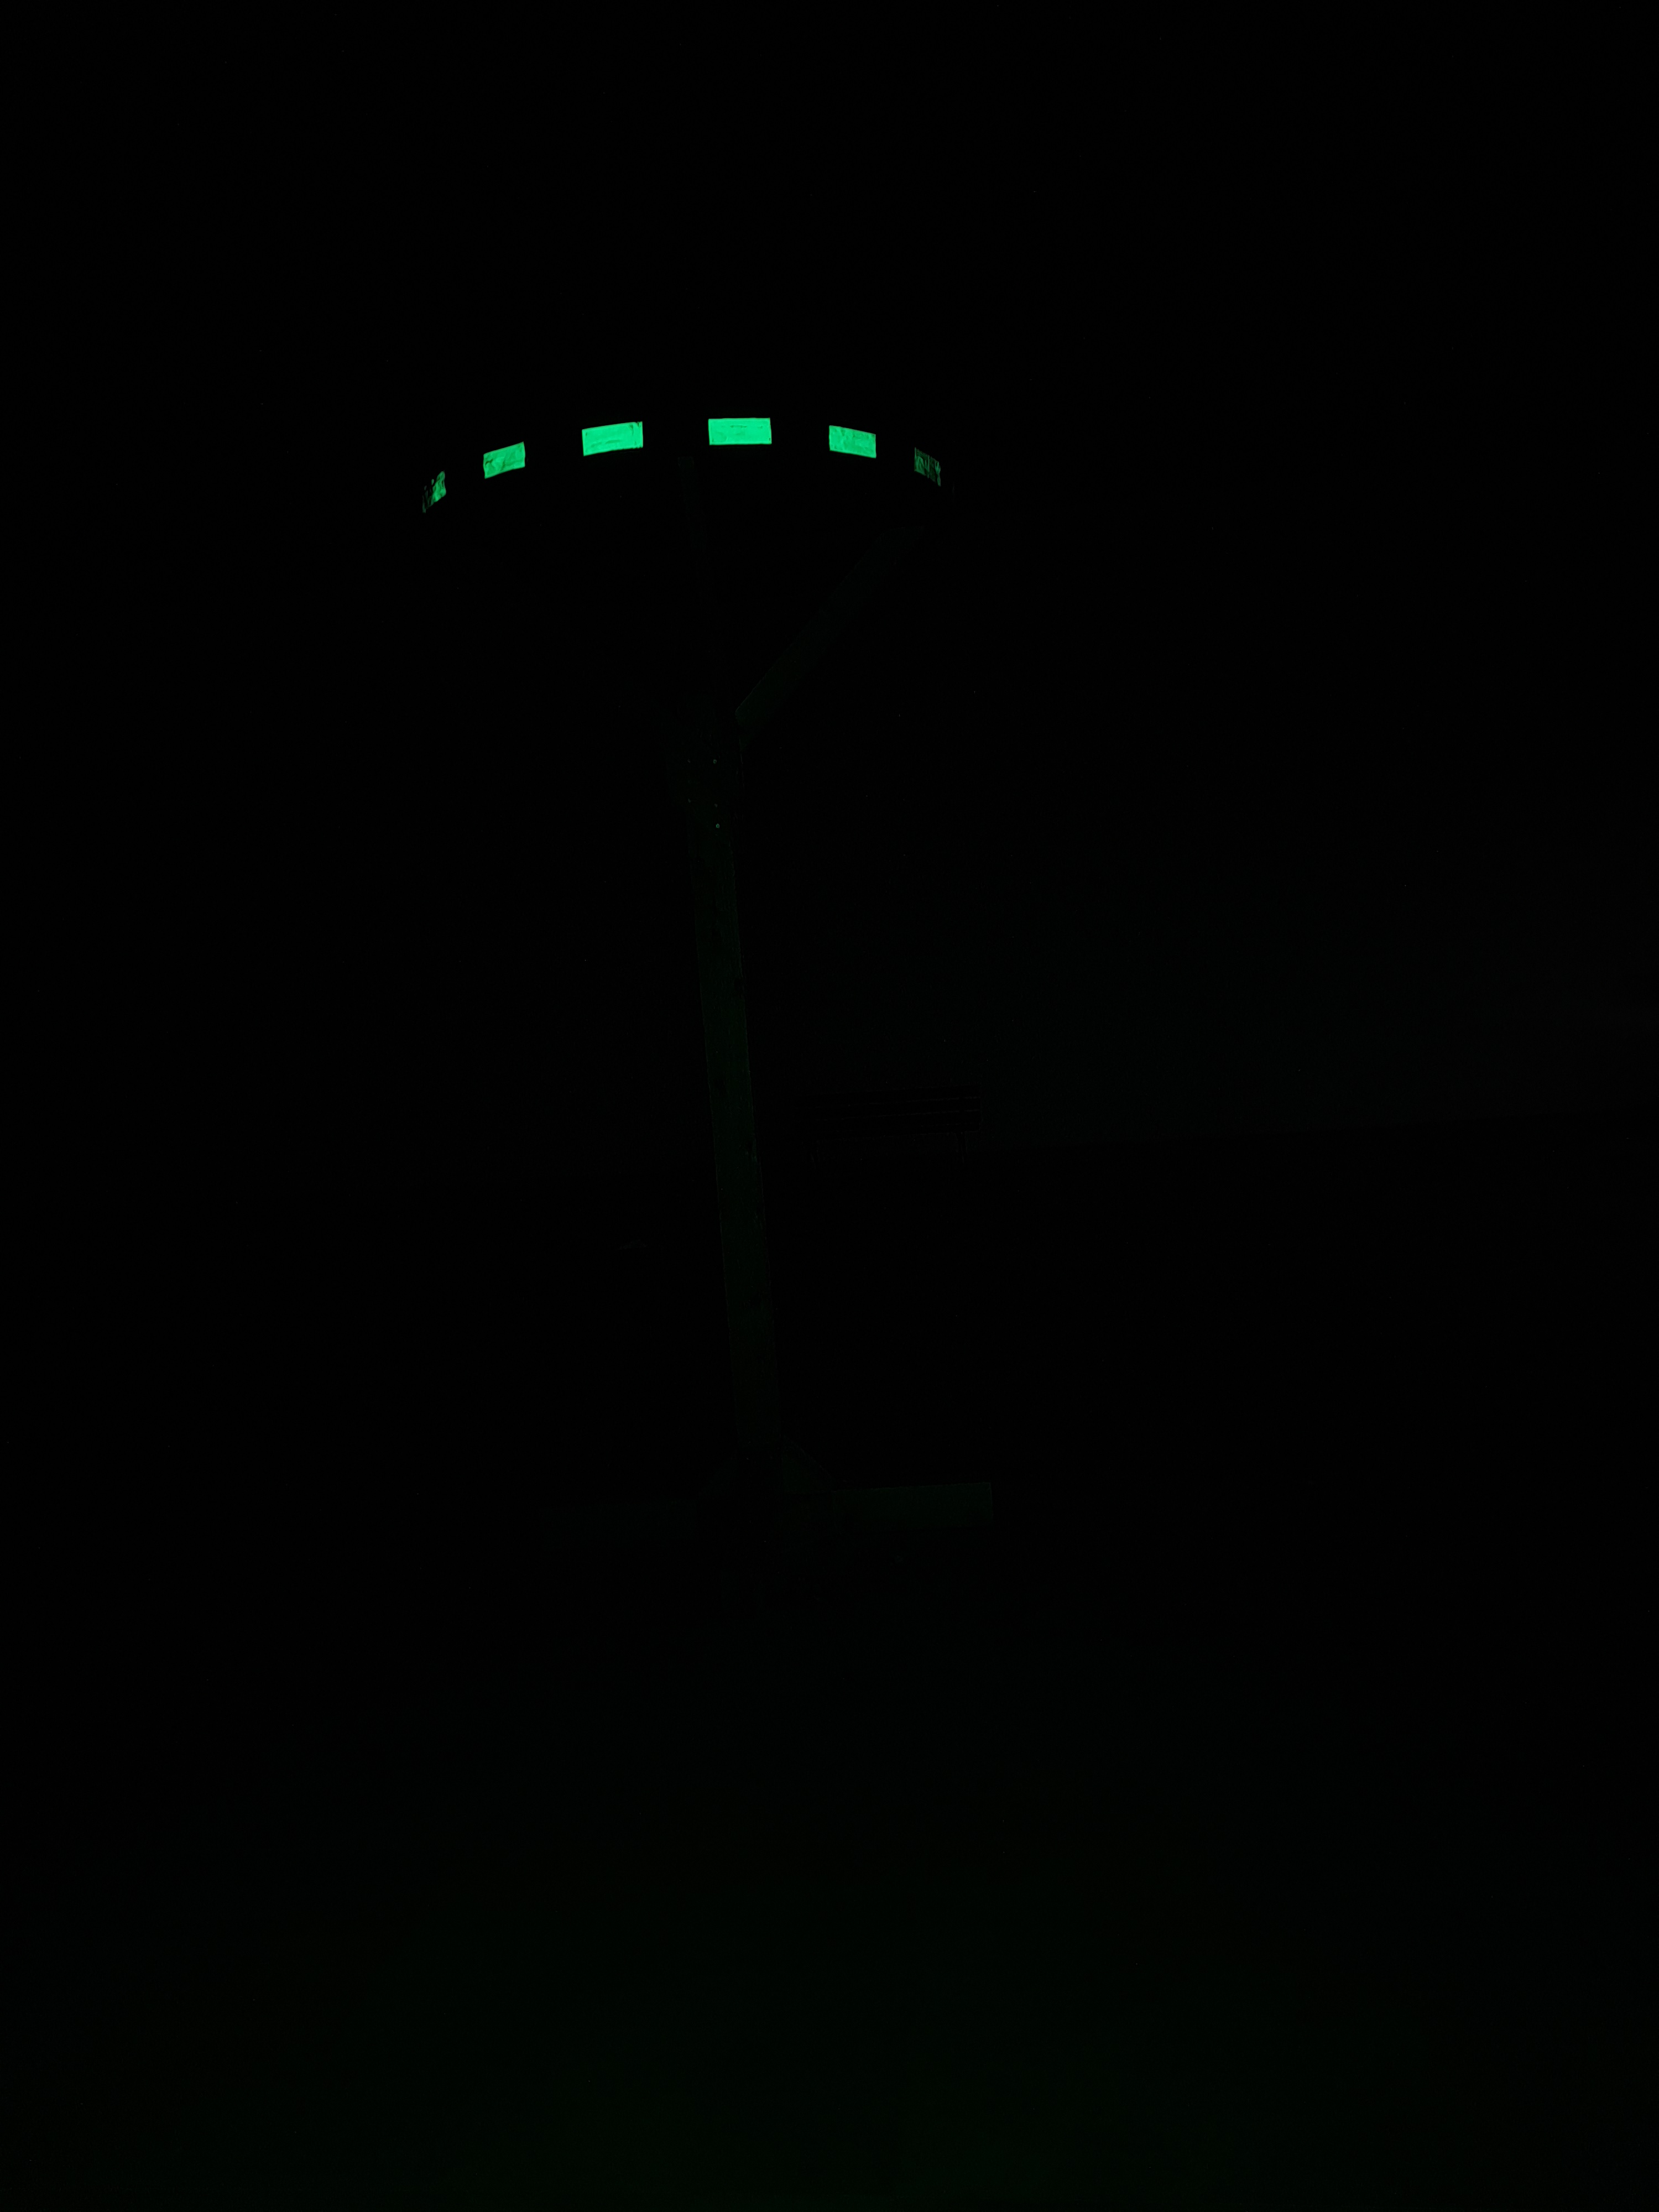hoop: (420, 406, 951, 517)
